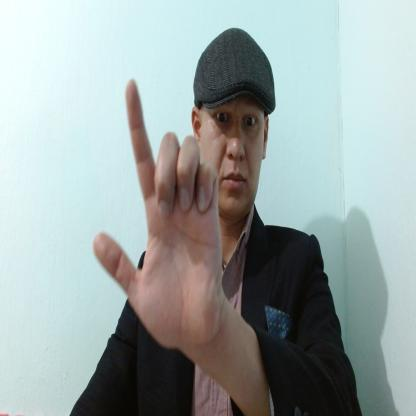L: (93, 78, 223, 346)
